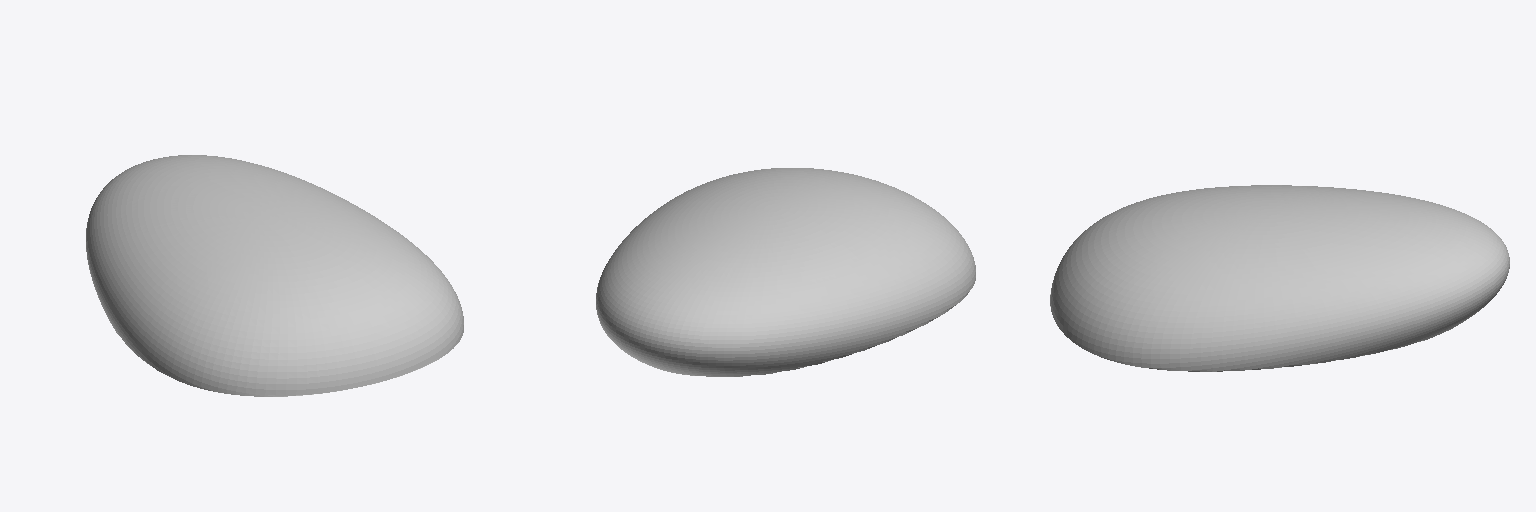
File: SubTool-7-11782861.OBJ
The picture shows the model from 3 angles: view 1: azimuth 30°, elevation 25°; view 2: azimuth 150°, elevation 25°; view 3: azimuth 270°, elevation 25°; orthographic projection.
Visible parts, largest first — view 1: Group30205; view 2: Group30205; view 3: Group30205.
Part boxes in pixels (left/top/right/bottom): Group30205: left=86, top=155, right=463, bottom=396; Group30205: left=596, top=168, right=975, bottom=376; Group30205: left=1050, top=185, right=1509, bottom=371.
Bounding box in the file's own units: 0.4519 × 0.1309 × 0.6124.